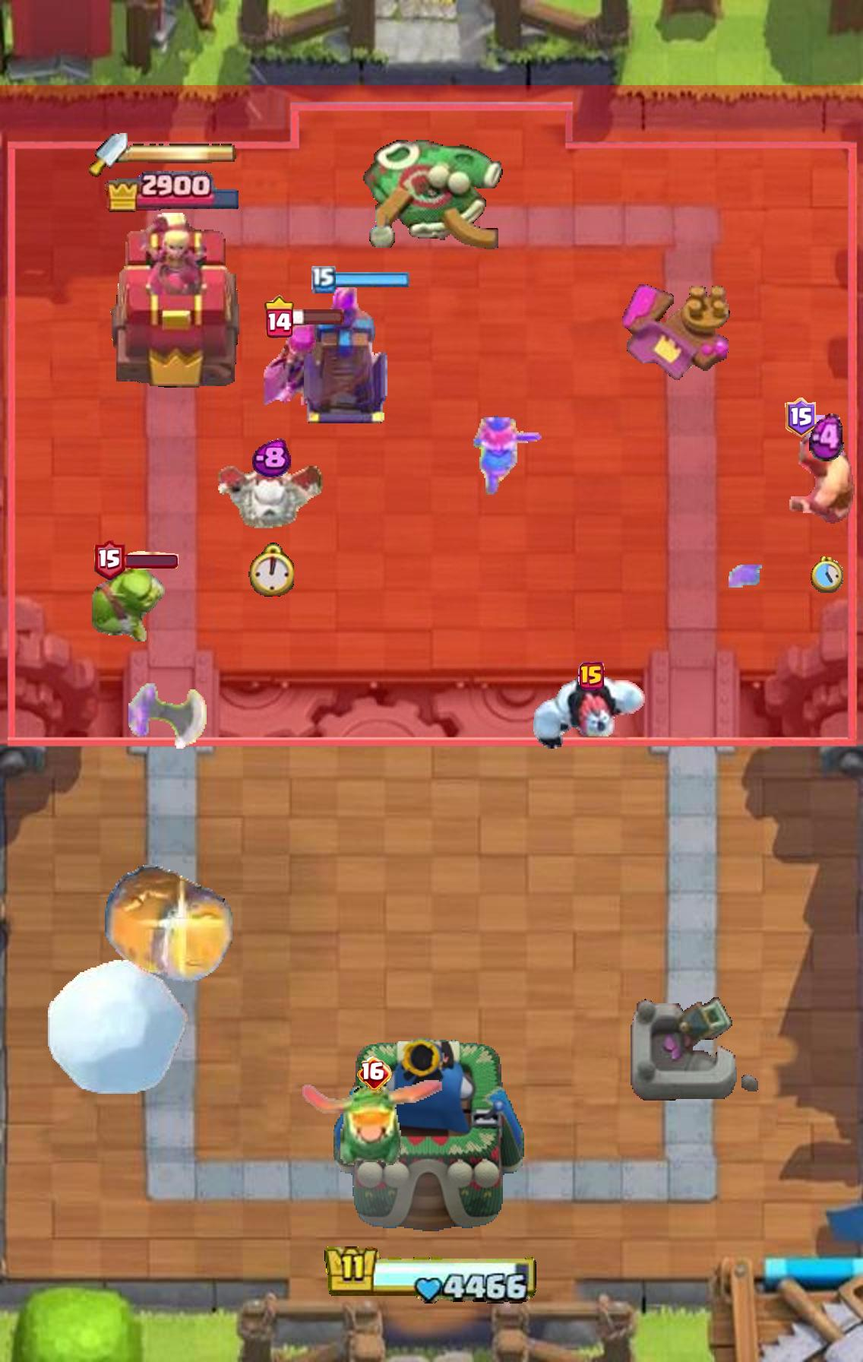bar: (122, 551, 179, 569), (290, 307, 345, 325)
bar-level: (785, 398, 817, 438), (93, 541, 125, 581), (265, 295, 294, 338), (357, 1056, 392, 1090), (578, 662, 604, 691)
